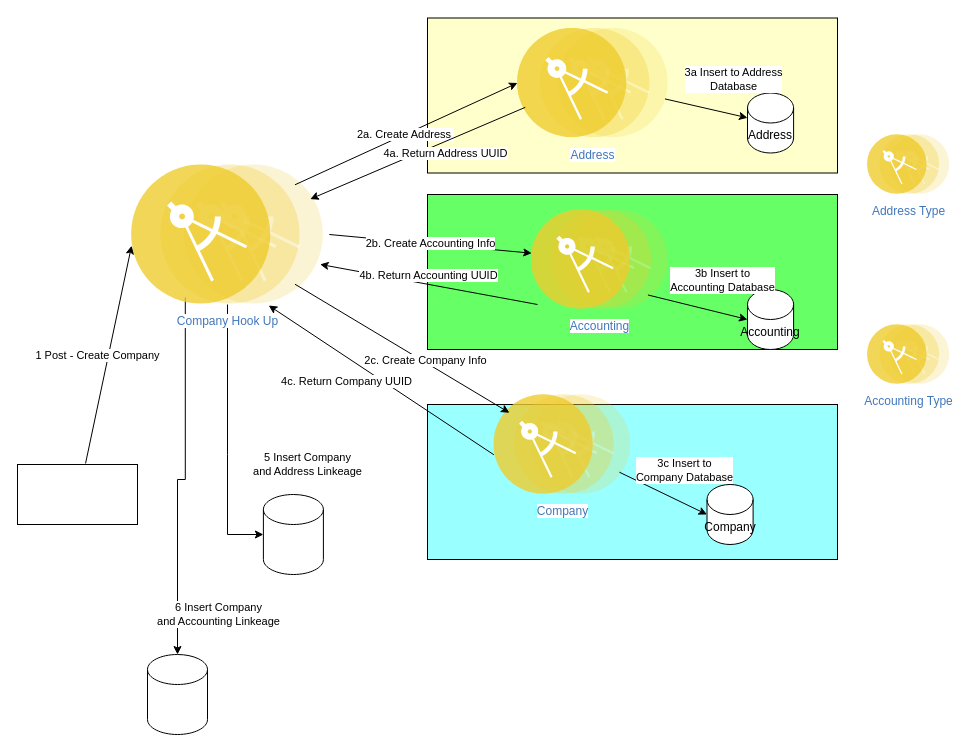
This 971x752 diagram has some shape labels left out. Each missing label, with the centre of its shape:
Company - Accounting (Hook up): (x=177, y=694)
Company - Address (Hook up): (x=292, y=534)
Create Company: (x=77, y=494)
